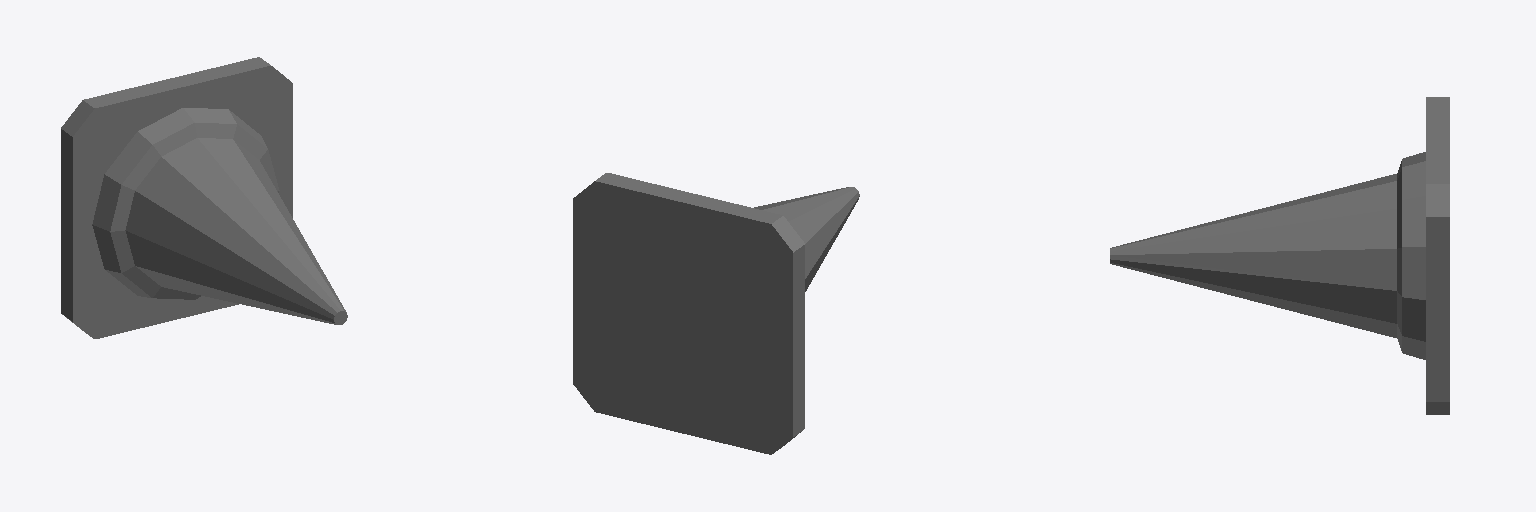
The picture shows the model from 3 angles: view 1: azimuth 30°, elevation 25°; view 2: azimuth 150°, elevation 25°; view 3: azimuth 270°, elevation 25°; orthographic projection.
Visible parts, largest first — view 1: Conus_LP; view 2: Conus_LP; view 3: Conus_LP.
Boxes of the visible parts, x1=… form: Conus_LP: x1=61, y1=57, x2=347, y2=338; Conus_LP: x1=573, y1=173, x2=859, y2=454; Conus_LP: x1=1110, y1=97, x2=1449, y2=414.
Bounding box in the file's own units: 20.6 × 20.6 × 27.45.